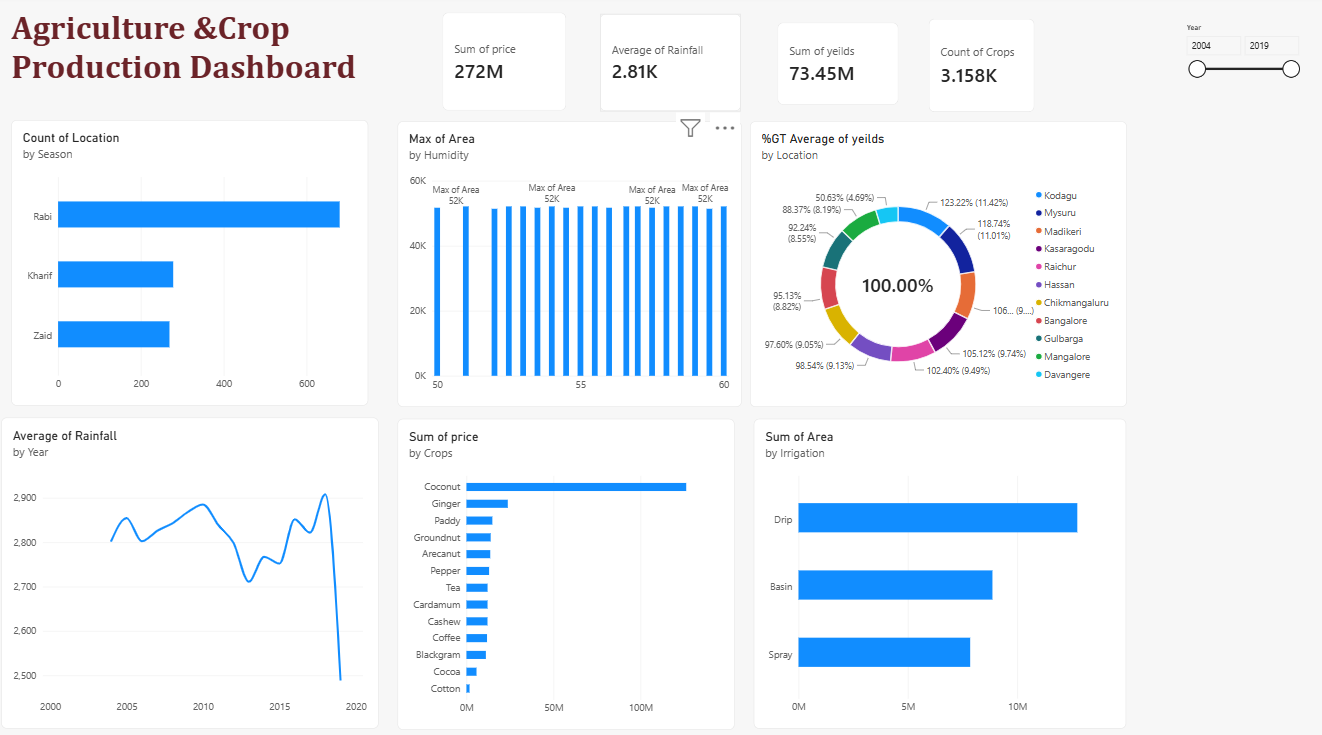

The page's visual inventory and layout, read from the dashboard file:
{"tool":"powerbi","page":{"name":"Page 2","canvas":[1920,1080],"ordinal":0},"visuals":[{"type":"barChart","fields":{"Category":["data_season.Season"],"Y":["CountNonNull(data_season.Location)"]},"box":[16.3,181,516.6,413.7],"z":0},{"type":"lineChart","fields":{"Category":["data_season.Year"],"Y":["Avg(data_season.Rainfall)"]},"box":[1.8,611.7,546.5,450.6],"z":1000},{"type":"columnChart","fields":{"Category":["data_season.Humidity"],"Y":["Max(data_season.Area)"]},"box":[575.5,182.8,498.1,413.7],"z":2000},{"type":"barChart","fields":{"Category":["data_season.Crops"],"Y":["Sum(data_season.price)"]},"box":[575.5,613.5,487.8,450.8],"z":2001},{"type":"donutChart","fields":{"Category":["data_season.Location"],"Y":["Divide(Avg(data_season.yeilds), ScopedEval(Avg(data_season.yeilds), []))"]},"box":[1085.8,182.8,545.5,413.7],"z":2002},{"type":"cardVisual","fields":{"Data":["CountNonNull(data_season.Crops)"]},"box":[1344.6,34.4,153.8,135.7],"z":2003},{"type":"barChart","fields":{"Category":["data_season.Irrigation"],"Y":["Sum(data_season.Area)"]},"box":[1091.2,613.5,539.3,448.8],"z":2004},{"type":"cardVisual","fields":{"Data":["Avg(data_season.Rainfall)"]},"box":[868.6,27.1,204.5,141.2],"z":2005},{"type":"cardVisual","fields":{"Data":["Sum(data_season.price)"]},"box":[640.6,25.3,179.2,143],"z":2006},{"type":"slicer","fields":{"Values":["data_season.Year"]},"box":[1710.1,39.8,175.5,88.7],"z":2007},{"type":"cardVisual","fields":{"Data":["Sum(data_season.yeilds)"]},"box":[1125.6,39.8,175.5,119.4],"z":2008},{"type":"textbox","box":[16,18,517,150],"z":2009}]}

Visuals, with their boxes in screenshot pixels (x1, y1, x2, y2), scaled from the page's 1920x1080 canvas onto the 1322x735 screenshot:
barChart - data_season.Season x CountNonNull(data_season.Location): x1=11, y1=123, x2=367, y2=405
lineChart - data_season.Year x Avg(data_season.Rainfall): x1=1, y1=416, x2=378, y2=723
columnChart - data_season.Humidity x Max(data_season.Area): x1=396, y1=124, x2=739, y2=406
barChart - data_season.Crops x Sum(data_season.price): x1=396, y1=418, x2=732, y2=724
donutChart - data_season.Location x Divide(Avg(data_season.yeilds), ScopedEval(Avg(data_season.yeilds), [])): x1=748, y1=124, x2=1123, y2=406
cardVisual - CountNonNull(data_season.Crops): x1=926, y1=23, x2=1032, y2=116
barChart - data_season.Irrigation x Sum(data_season.Area): x1=751, y1=418, x2=1123, y2=723
cardVisual - Avg(data_season.Rainfall): x1=598, y1=18, x2=739, y2=115
cardVisual - Sum(data_season.price): x1=441, y1=17, x2=564, y2=115
slicer - data_season.Year: x1=1177, y1=27, x2=1298, y2=87
cardVisual - Sum(data_season.yeilds): x1=775, y1=27, x2=896, y2=108
textbox: x1=11, y1=12, x2=367, y2=114
